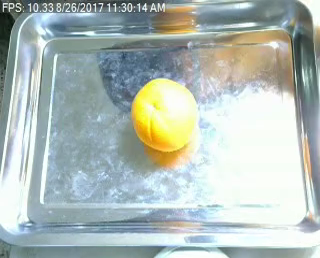Orange: (130, 76, 197, 151)
